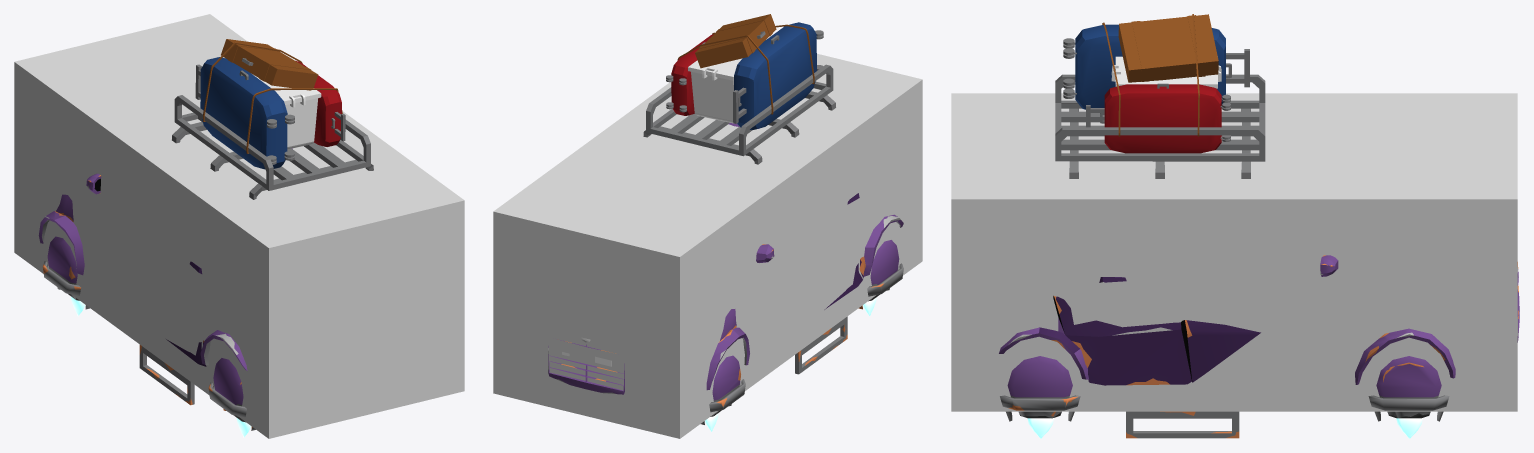
The model's file is car_scene_12.glb.
3 renders of one model, left to right at view 1: azimuth 30°, elevation 25°; view 2: azimuth 150°, elevation 25°; view 3: azimuth 270°, elevation 25°, orthographic. The views are drawn at different scales.
Parts seen in each view (by area): view 1: car_scale_reference, luggage, rack, car, luggage_1, luggage_2, luggage_3, nozzle_front_l, nozzle_rear_l; view 2: car_scale_reference, luggage, car, rack, luggage_1, luggage_2, luggage_3, nozzle_front_l, nozzle_rear_l; view 3: car_scale_reference, car, rack, luggage_3, luggage_1, luggage, nozzle_rear_r, nozzle_front_r, luggage_2.
Part boxes in pixels (x1,y1,x2,y2): car_scale_reference: (14,14,464,438); luggage: (195,57,294,169); rack: (172,95,373,199); car: (38,42,342,405); luggage_1: (221,39,318,90); luggage_2: (252,74,321,149); luggage_3: (295,60,345,146); nozzle_front_l: (42,236,89,309); nozzle_rear_l: (208,358,255,430); car_scale_reference: (493,53,922,438); luggage: (733,22,823,130); car: (548,24,903,394); rack: (643,64,835,164); luggage_1: (695,14,776,68); luggage_2: (688,58,742,123); luggage_3: (666,34,713,115); nozzle_front_l: (701,355,745,424); nozzle_rear_l: (858,240,903,309); car_scale_reference: (951,93,1517,411); car: (999,14,1519,438); rack: (1055,74,1265,178); luggage_3: (1086,83,1230,153); luggage_1: (1118,14,1218,82); luggage: (1063,24,1249,109); nozzle_rear_r: (1000,356,1080,421); nozzle_front_r: (1368,356,1449,421); luggage_2: (1111,56,1221,88).
Bounding box in the file's own units: 1.87 × 2.71 × 3.76.
